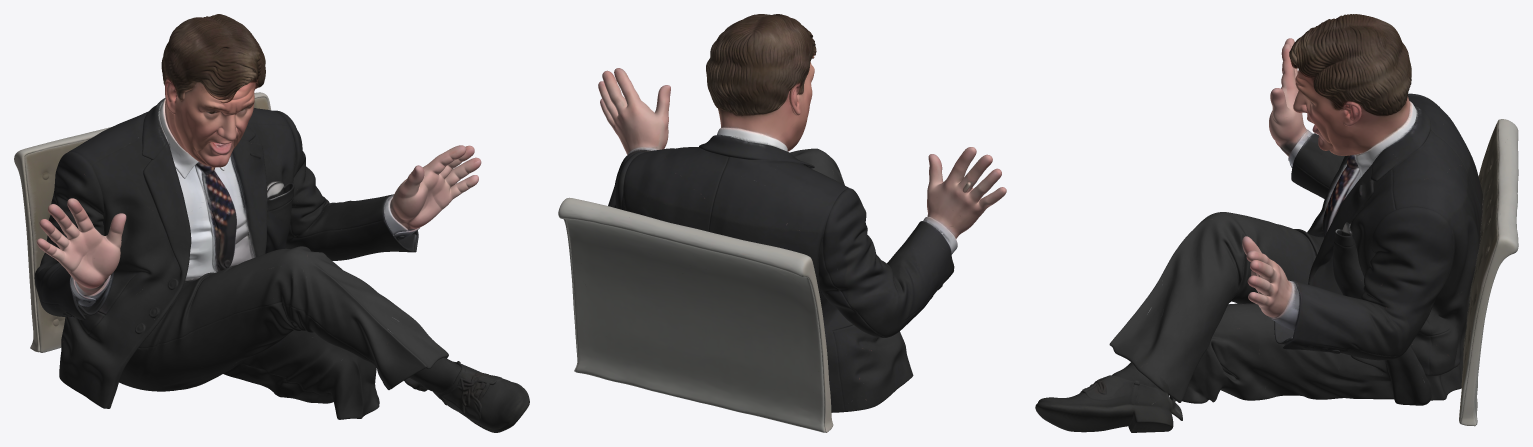
The model's file is tucker-2.glb.
The picture shows the model from 3 angles, left to right: view 1: azimuth 30°, elevation 25°; view 2: azimuth 150°, elevation 25°; view 3: azimuth 270°, elevation 25°; orthographic projection.
Size of the model in its own units: 2 by 1.53 by 1.95.
Materials: 1 (1 with a texture image).
